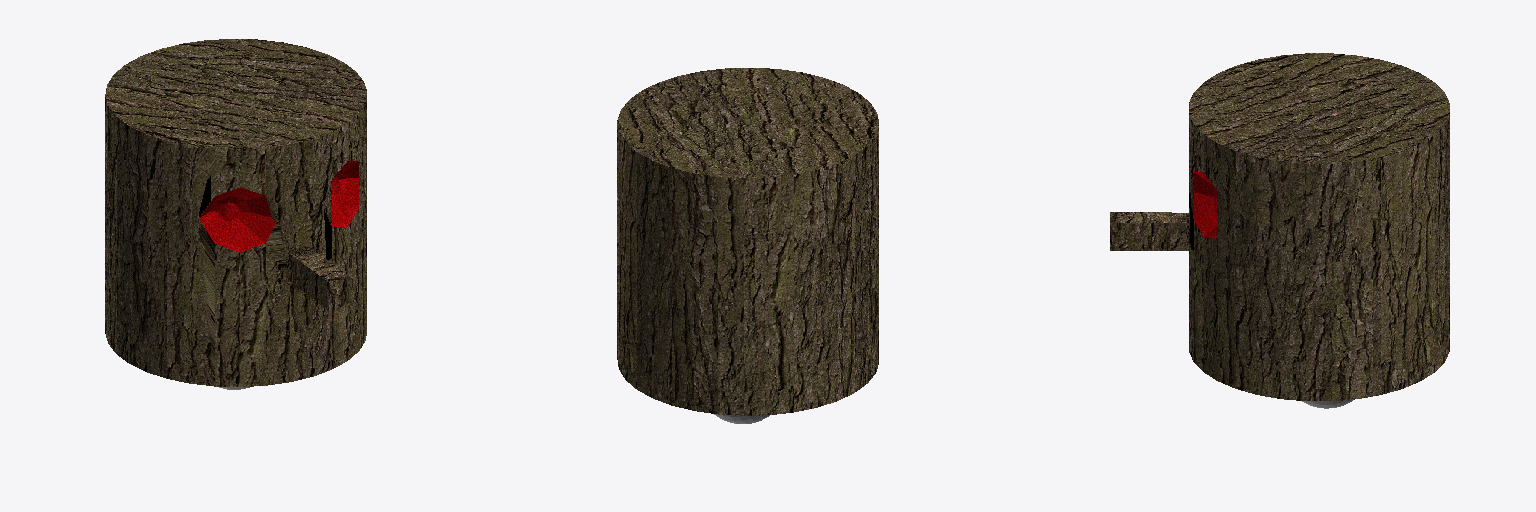
3 views of the same model, side by side, from view 1: azimuth 30°, elevation 25°; view 2: azimuth 150°, elevation 25°; view 3: azimuth 270°, elevation 25° (orthographic).
Visible parts, largest first — view 1: Cylinder.001_Cylinder.003; view 2: Cylinder.001_Cylinder.003; view 3: Cylinder.001_Cylinder.003.
Boxes of the visible parts, x1=… form: Cylinder.001_Cylinder.003: x1=105, y1=39, x2=366, y2=386; Cylinder.001_Cylinder.003: x1=617, y1=68, x2=878, y2=415; Cylinder.001_Cylinder.003: x1=1110, y1=53, x2=1449, y2=400.
Bounding box in the file's own units: 0.5073 × 0.6323 × 0.66.
Materials: 2 (1 with a texture image).